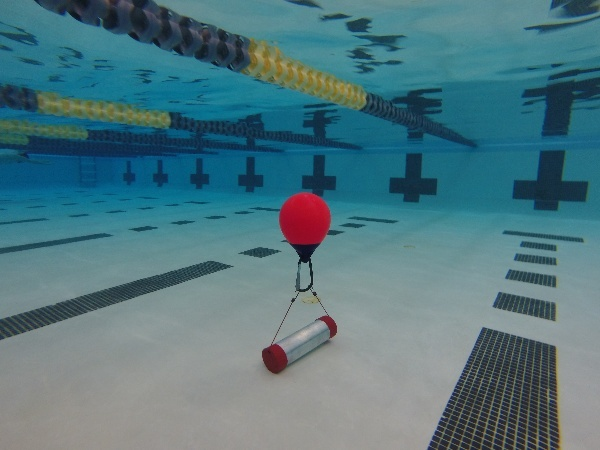buoy_red: (275, 192, 338, 266)
